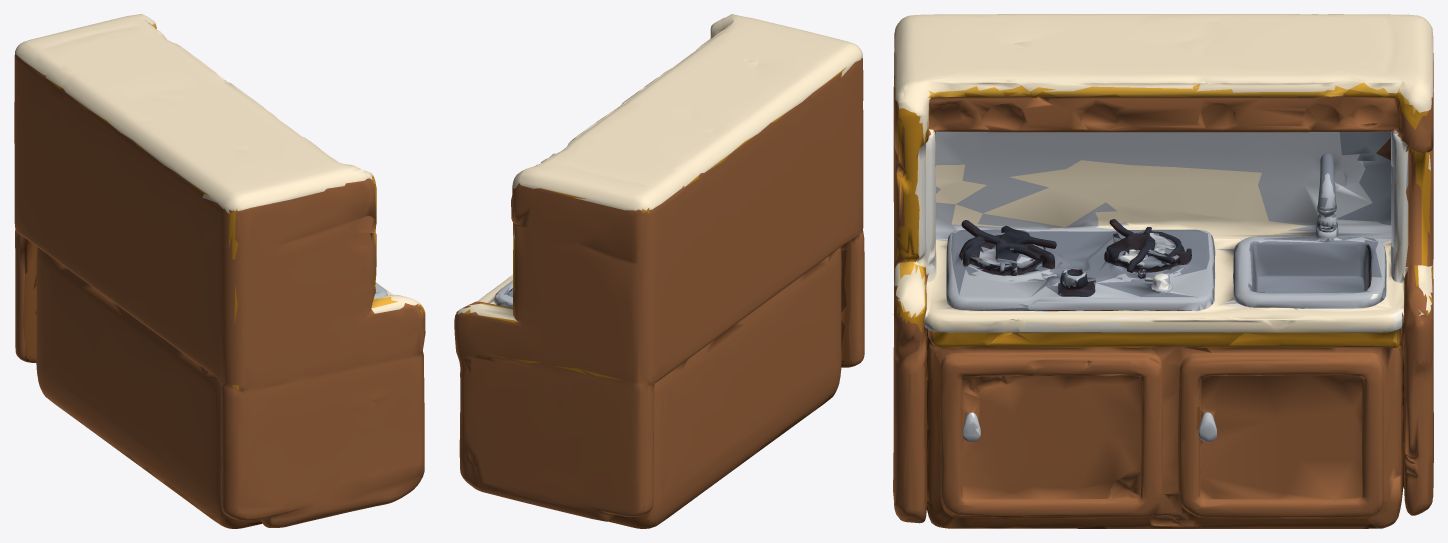
Rendered from SM_kitchen_unit_wood.fbx.
The picture shows the model from 3 angles, left to right: view 1: azimuth 30°, elevation 25°; view 2: azimuth 150°, elevation 25°; view 3: azimuth 270°, elevation 25°; orthographic projection. The views are drawn at different scales.
Parts seen in each view (by area): view 1: SM_kitchen_unit_wood; view 2: SM_kitchen_unit_wood; view 3: SM_kitchen_unit_wood.
Part boxes in pixels (x1,y1,x2,y2): SM_kitchen_unit_wood: [14, 14, 425, 528]; SM_kitchen_unit_wood: [454, 14, 864, 528]; SM_kitchen_unit_wood: [893, 14, 1433, 528].
Size of the model in its own units: 56.65 by 90 by 106.
Materials: 1 (1 with a texture image).
